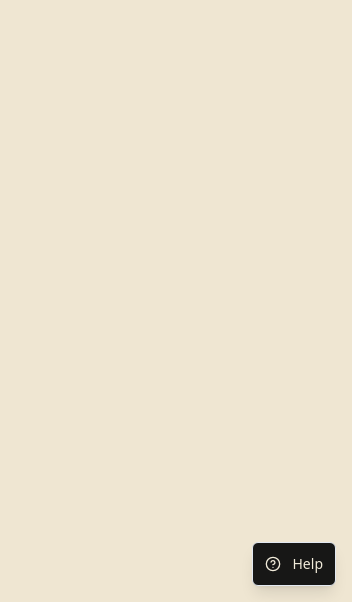
Scenario: gameplay screen integrations › surfaces strategy insights from the help overlay
Expected: the text "Strategy Insights" is not shown
Click the button "Help" at (294,564), box x1=252 y1=542 x2=336 y2=586
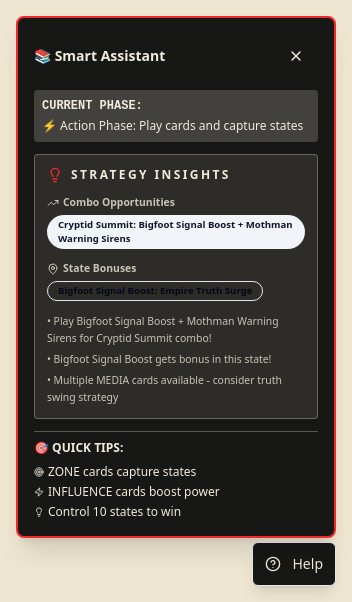
Expected: the heading "Strategy Insights" is shown, x1=71 y1=167 x2=231 y2=183
Expected: the text "Cryptid Summit" is shown, x1=58 y1=218 x2=133 y2=231
Expected: the text "• Bigfoot Signal Boost gets bonus in this state!" is shown, x1=47 y1=351 x2=305 y2=368
